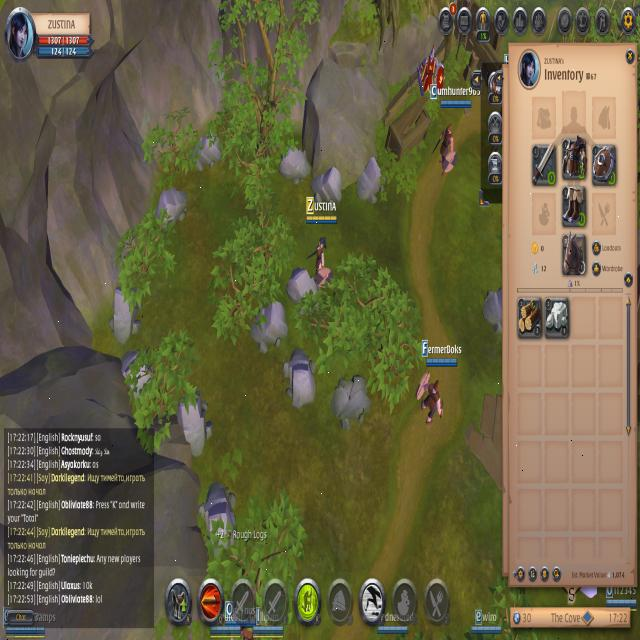broken stone: (333, 366, 371, 439)
stone: (195, 481, 238, 552), (176, 388, 214, 462), (284, 342, 318, 414), (108, 282, 140, 350), (251, 296, 287, 356), (285, 263, 320, 320), (122, 344, 155, 404), (357, 156, 388, 213), (150, 187, 190, 230), (192, 126, 222, 182), (280, 138, 310, 192), (316, 159, 344, 216)
